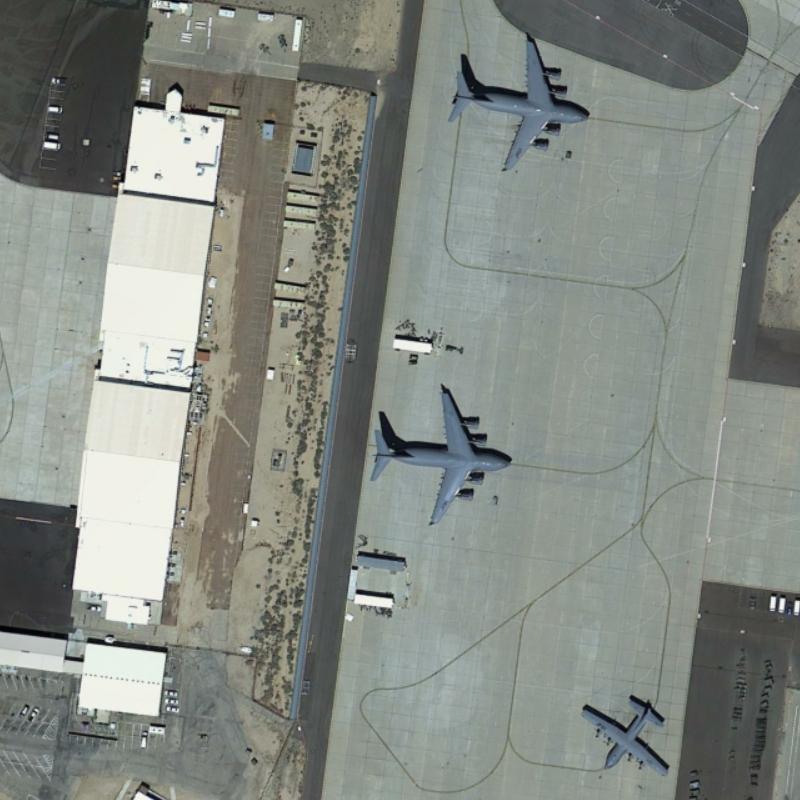A2: (574, 688, 675, 780)
A3: (366, 380, 521, 533), (443, 30, 594, 175)
